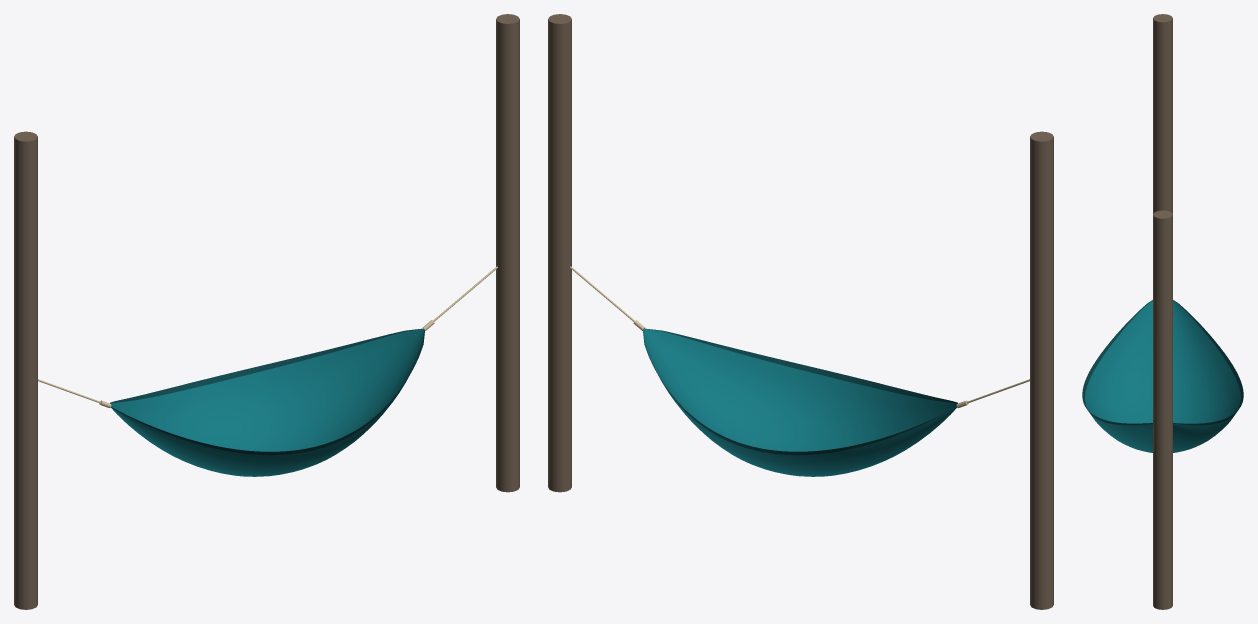
The model's file is vong_du_cafe.glb.
3 renders of one model, left to right at view 1: azimuth 30°, elevation 25°; view 2: azimuth 150°, elevation 25°; view 3: azimuth 270°, elevation 25°, orthographic. The views are drawn at different scales.
Parts seen in each view (by area): view 1: bed_vong_du_cafe, vong_du_cafe; view 2: bed_vong_du_cafe, vong_du_cafe; view 3: bed_vong_du_cafe, vong_du_cafe.
Part boxes in pixels (x1=…): bed_vong_du_cafe: x1=38, y1=266, x2=497, y2=476; vong_du_cafe: x1=14, y1=14, x2=519, y2=609; bed_vong_du_cafe: x1=570, y1=266, x2=1029, y2=476; vong_du_cafe: x1=548, y1=14, x2=1053, y2=609; bed_vong_du_cafe: x1=1082, y1=300, x2=1243, y2=452; vong_du_cafe: x1=1153, y1=14, x2=1172, y2=609.
Bounding box in the file's own units: 2.92 × 2.6 × 0.9725.
